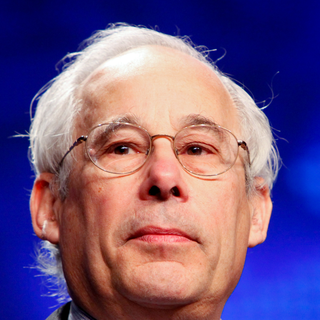eye: (178, 138, 221, 161), (101, 138, 144, 161)
